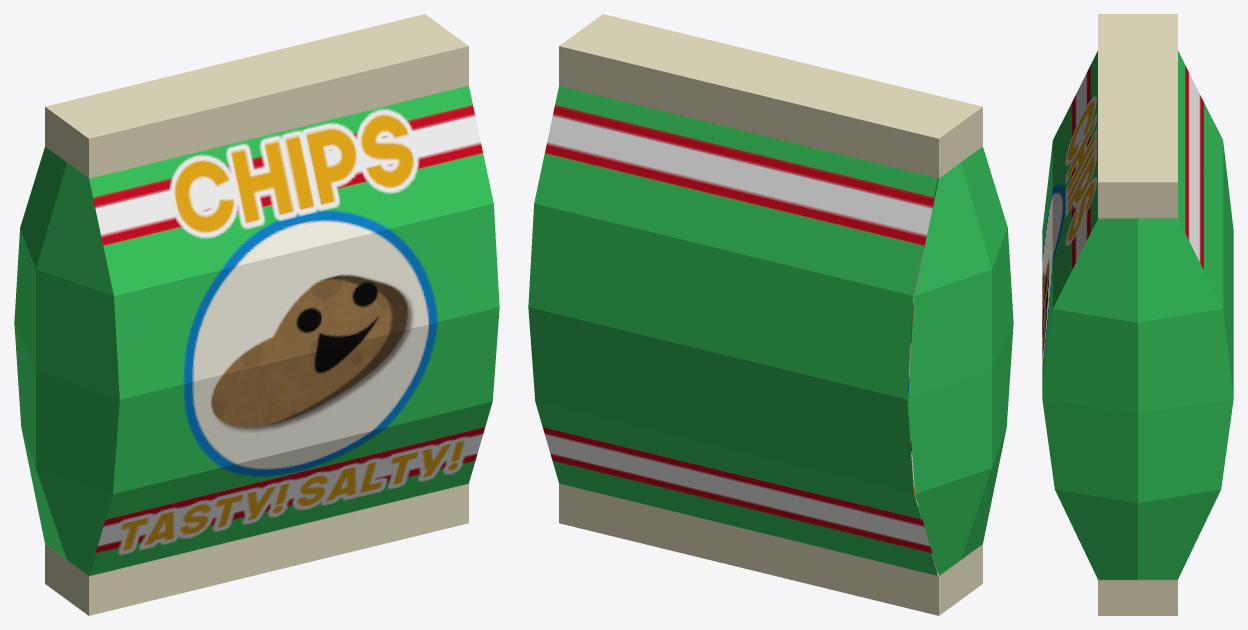
Rendered from mod_item_chipBag.fbx.
3 views of the same model, side by side, from view 1: azimuth 30°, elevation 25°; view 2: azimuth 150°, elevation 25°; view 3: azimuth 270°, elevation 25° (orthographic). The views are drawn at different scales.
Visible parts, largest first — view 1: mesh_chipBag; view 2: mesh_chipBag; view 3: mesh_chipBag.
Boxes of the visible parts, bbox=[...] form: mesh_chipBag: bbox=[14, 14, 499, 615]; mesh_chipBag: bbox=[528, 14, 1013, 615]; mesh_chipBag: bbox=[1042, 14, 1233, 615].
Bounding box in the file's own units: 233 × 240 × 96.
